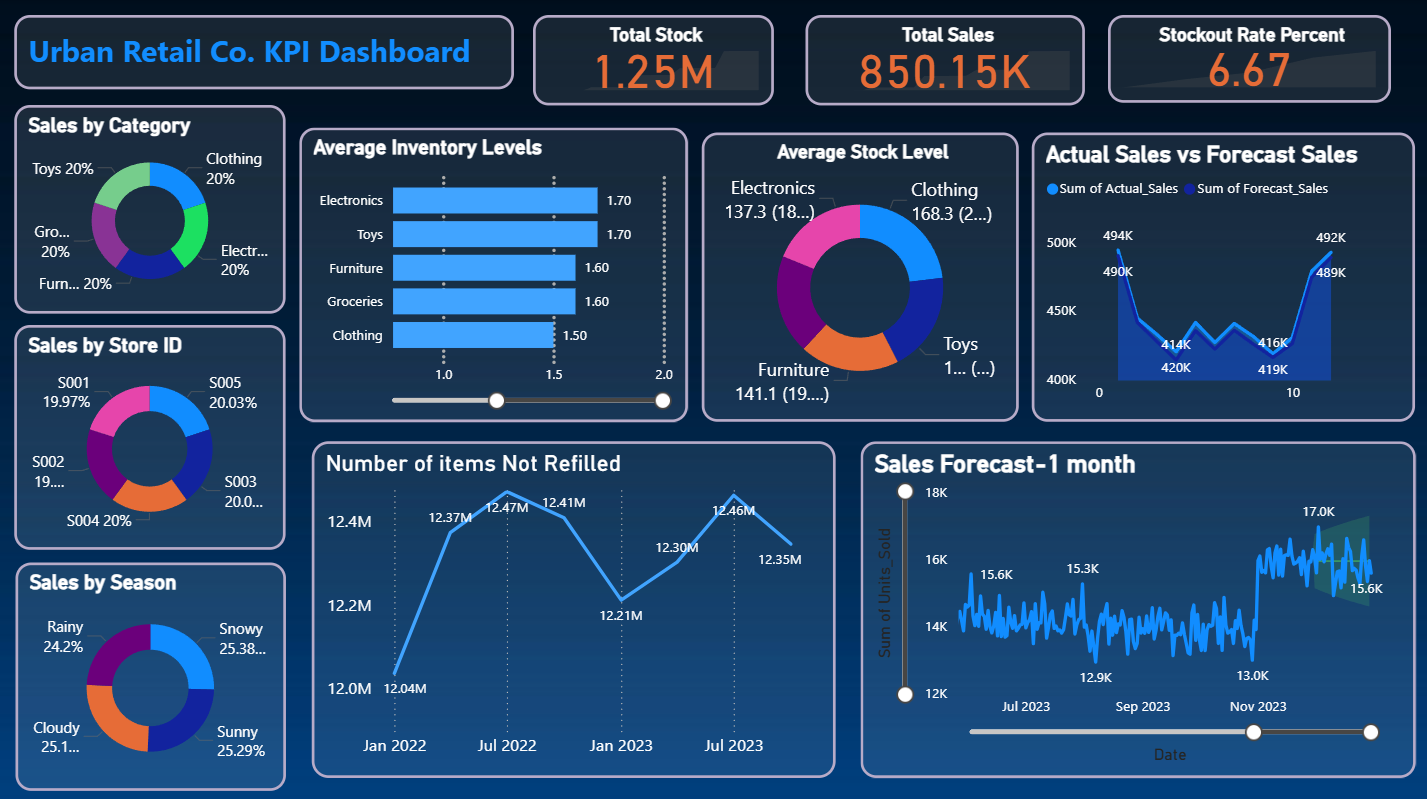

This screenshot's page, from the dashboard's own definition file:
{"tool":"powerbi","page":{"name":"Page 1","canvas":[1280,720],"ordinal":0},"visuals":[{"type":"lineChart","title":"Number of items Not Refilled","fields":{"Y":["Sum(supplier_performance.Occurrences)"],"Category":["supplier_performance.Date.Variation.Date Hierarchy.Year","supplier_performance.Date.Variation.Date Hierarchy.Quarter"]},"box":[280.3,394.5,468.2,300.6],"z":0},{"type":"donutChart","title":"Sales by Category","fields":{"Category":["Forecast_Comparison.Category"],"Y":["Sum(Inventory_Facts.Units_Sold)"]},"box":[14.5,93.9,242.8,186.4],"z":1000},{"type":"textbox","box":[14.5,13,446.5,66.5],"z":2000},{"type":"lineChart","title":"Sales Forecast-1 month","fields":{"Category":["Inventory_Facts.Date"],"Y":["Sum(Inventory_Facts.Units_Sold)"]},"box":[770.2,394.5,495.6,300.6],"z":3000},{"type":"donutChart","title":"Sales by Store ID","fields":{"Category":["Inventory_Facts.Store_ID"],"Y":["Sum(Inventory_Facts.Units_Sold)"]},"box":[14.3,290.3,242.3,200.9],"z":4000},{"type":"donutChart","title":"Sales by Season","fields":{"Category":["Inventory_Facts.Weather_Condition"],"Y":["Sum(Inventory_Facts.Units_Sold)"]},"box":[15.9,502.9,241.3,203.7],"z":5000},{"type":"kpi","title":"Total Stock","fields":{"Indicator":["Sum(Stock_Levels.Total_Stock)"],"TrendLine":["Stock_Levels.Total_Stock"]},"box":[478.3,13,215.3,80.9],"z":6000},{"type":"kpi","title":"Total Sales","fields":{"Indicator":["Sum(Stock_Levels.Total_Units_Sold)"],"TrendLine":["Stock_Levels.Total_Units_Sold"]},"box":[721.1,13,250,80.9],"z":7000},{"type":"donutChart","title":"Average Stock Level","fields":{"Category":["summary_KPI_report.Category"],"Y":["Sum(summary_KPI_report.Avg_Stock_Level)"]},"box":[628.6,118.5,283.2,258.7],"z":8000},{"type":"clusteredBarChart","title":"Average Inventory Levels","fields":{"Category":["summary_KPI_report.Category"],"Y":["Sum(summary_KPI_report.Avg_Inventory_Age)"]},"box":[268.8,114.2,346.8,263],"z":9000},{"type":"kpi","title":"Stockout Rate Percent","fields":{"Indicator":["Median(summary_KPI_report.Stockout_Rate_Pct)"],"TrendLine":["summary_KPI_report.Stockout_Rate_Pct"]},"box":[991.3,13,252.9,78],"z":10000},{"type":"areaChart","title":"Actual Sales vs Forecast Sales","fields":{"Y":["Sum(Forecast_Comparison.Actual_Sales)","Sum(Forecast_Comparison.Forecast_Sales)"],"Category":["Forecast_Comparison.Month"]},"box":[923.4,118.5,342.5,258.7],"z":11000}]}

Visuals, with their boxes in screenshot pixels (x1, y1, x2, y2), scaled from the page's 1280x720 canvas onto the 1427x799 screenshot:
"Number of items Not Refilled" lineChart: [312, 438, 834, 771]
"Sales by Category" donutChart: [16, 104, 287, 311]
textbox: [16, 14, 514, 88]
"Sales Forecast-1 month" lineChart: [859, 438, 1411, 771]
"Sales by Store ID" donutChart: [16, 322, 286, 545]
"Sales by Season" donutChart: [18, 558, 287, 784]
"Total Stock" kpi: [533, 14, 773, 104]
"Total Sales" kpi: [804, 14, 1083, 104]
"Average Stock Level" donutChart: [701, 132, 1017, 419]
"Average Inventory Levels" clusteredBarChart: [300, 127, 686, 419]
"Stockout Rate Percent" kpi: [1105, 14, 1387, 101]
"Actual Sales vs Forecast Sales" areaChart: [1029, 132, 1411, 419]
